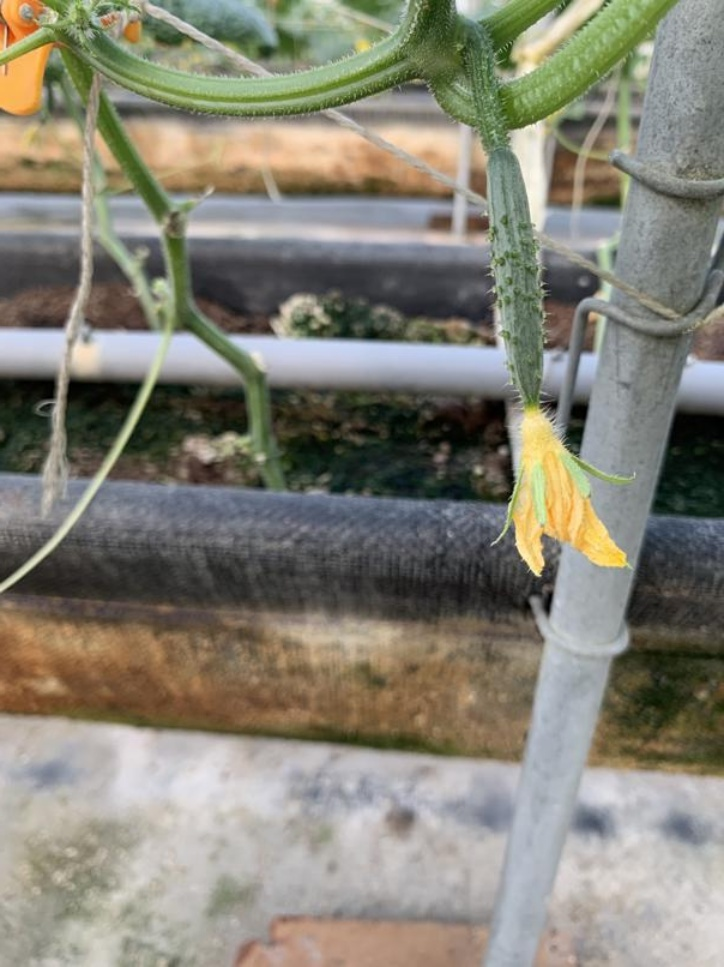bear: (460, 134, 631, 581)
